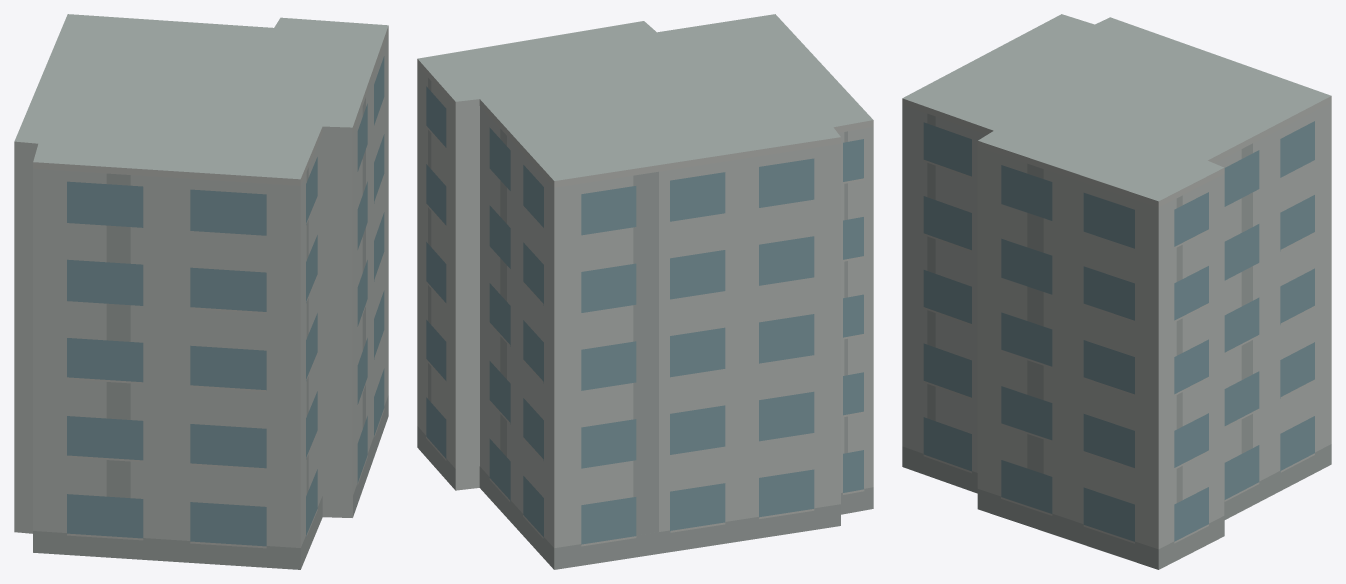
File: survey-upis-33019198.glb
The picture shows the model from 3 angles, left to right: view 1: azimuth 30°, elevation 25°; view 2: azimuth 150°, elevation 25°; view 3: azimuth 270°, elevation 25°; orthographic projection. The views are drawn at different scales.
Visible parts, largest first — view 1: survey-upis-33019198.tmp; view 2: survey-upis-33019198.tmp; view 3: survey-upis-33019198.tmp.
Part boxes in pixels (x1,y1,x2,y2): survey-upis-33019198.tmp: (14,14,388,569); survey-upis-33019198.tmp: (417,14,873,569); survey-upis-33019198.tmp: (902,14,1331,569).
Bounding box in the file's own units: 15.49 × 14.2 × 15.
